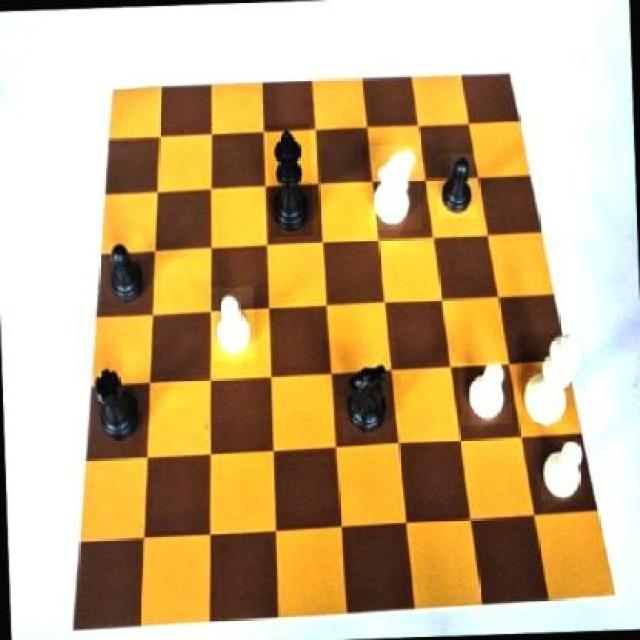black-bishop: (266, 123, 313, 237)
black-king: (340, 361, 391, 444)
black-knight: (101, 237, 148, 308), (436, 152, 476, 218)
black-queen: (90, 362, 146, 446)
white-bishop: (517, 334, 588, 428)
white-king: (368, 144, 422, 230)
white-knight: (458, 362, 512, 426), (210, 288, 256, 360), (537, 438, 585, 499)
